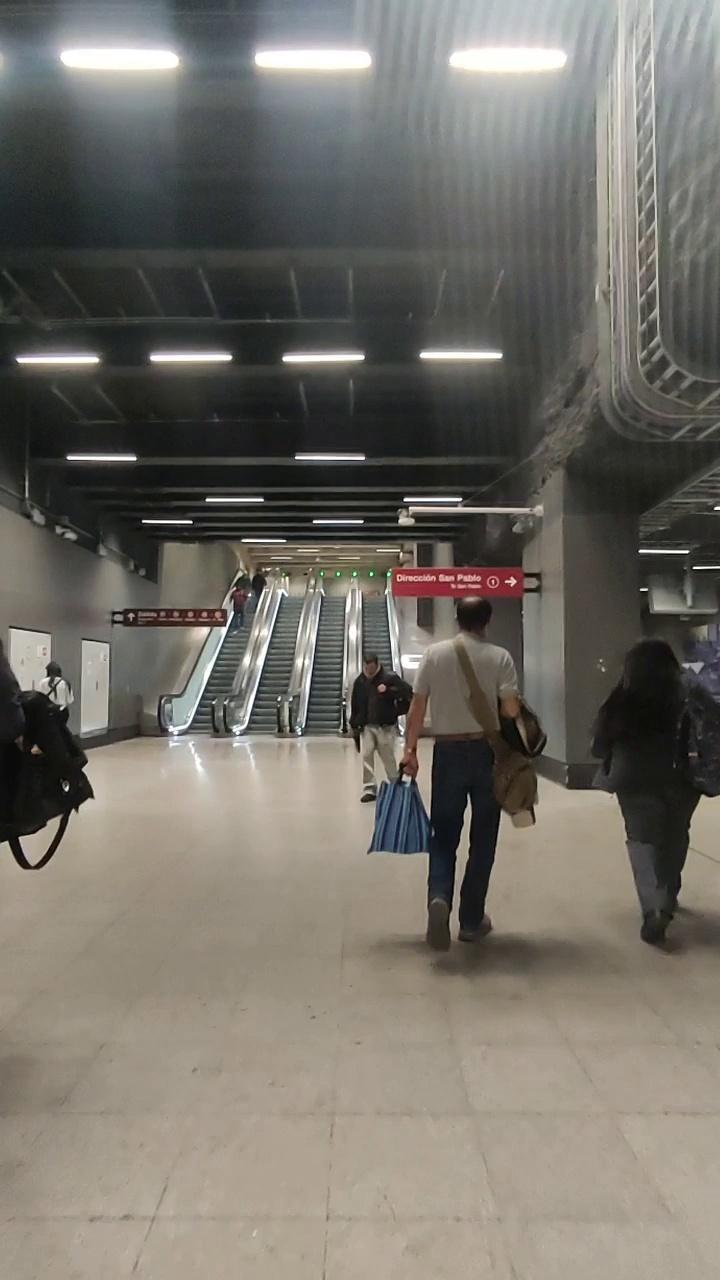right arrow: (503, 576, 517, 590)
